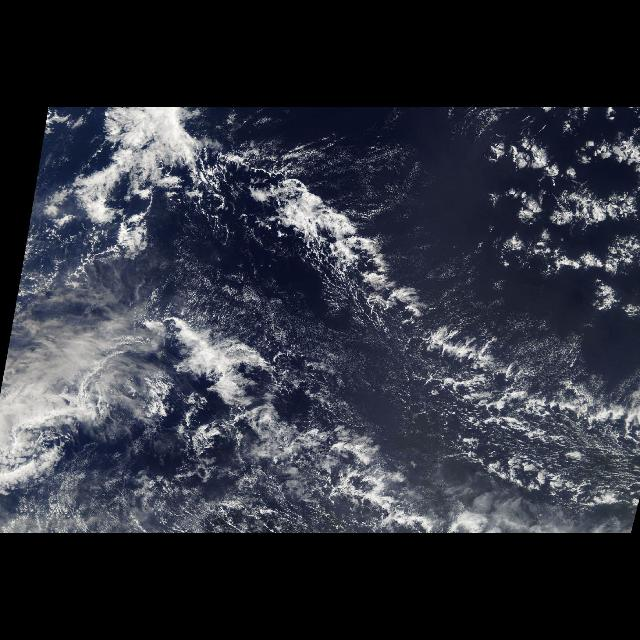Fish: (221, 136, 457, 358), (64, 108, 208, 266)
Flower: (462, 126, 640, 322)
Gravel: (396, 329, 636, 517)
Sugar: (166, 237, 270, 323), (286, 298, 354, 414)
